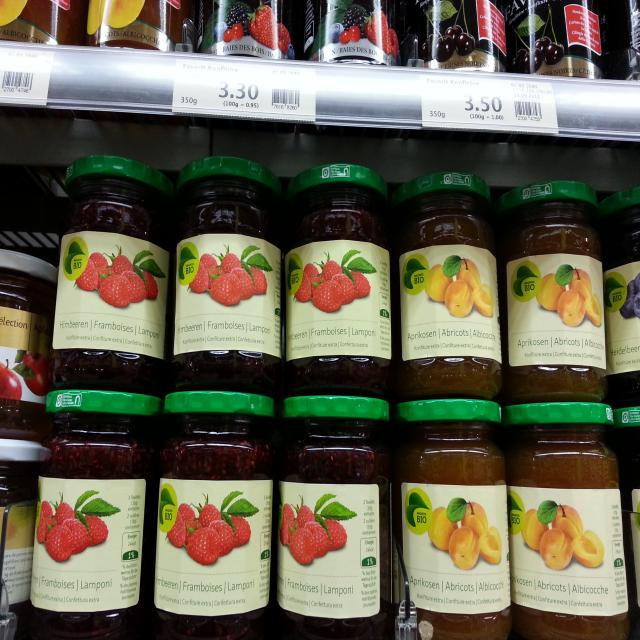Spreads: (25, 388, 166, 640), (152, 383, 278, 640), (501, 399, 631, 640), (391, 392, 515, 640), (166, 150, 290, 393), (49, 159, 175, 392), (277, 386, 391, 640), (498, 173, 610, 400), (391, 165, 502, 392), (288, 162, 390, 390)
